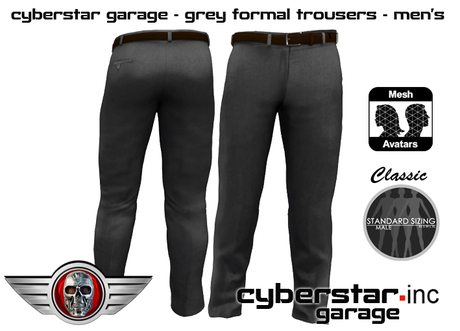F_belt: (227, 31, 344, 49), (109, 28, 210, 48)
F_dress pants: (222, 29, 335, 321), (101, 34, 208, 315)
